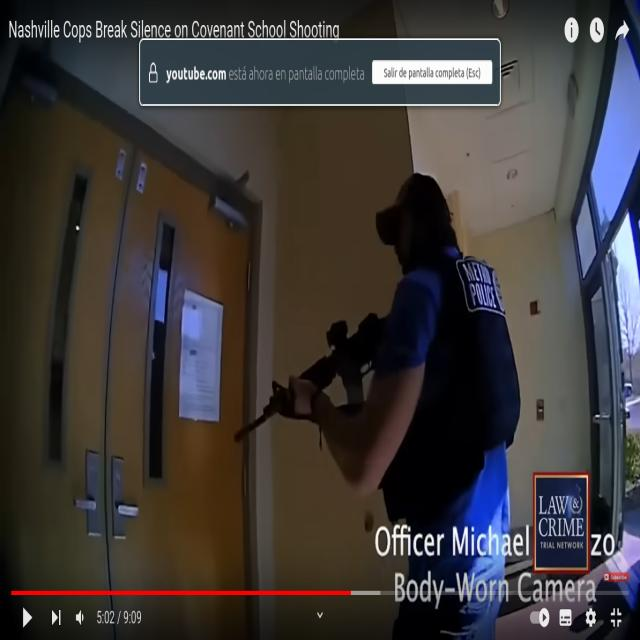RifleTel: (227, 292, 415, 456)
